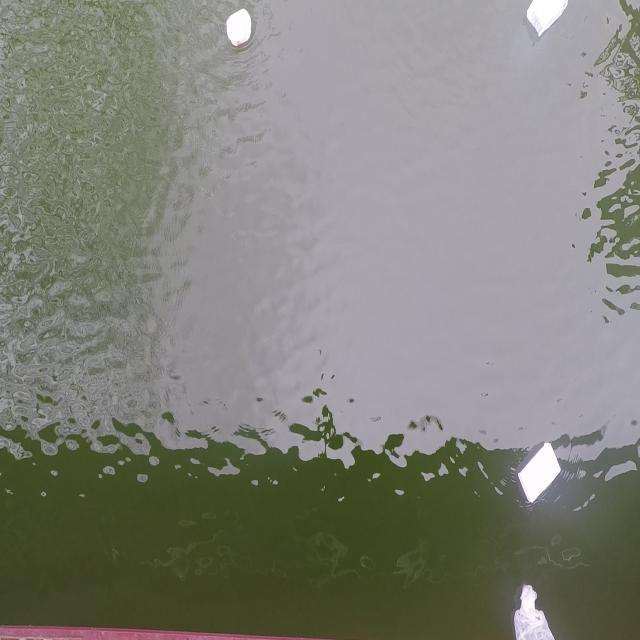Autre plastique: (510, 436, 562, 511), (523, 0, 570, 45)
Sac plastique: (509, 579, 559, 640)
